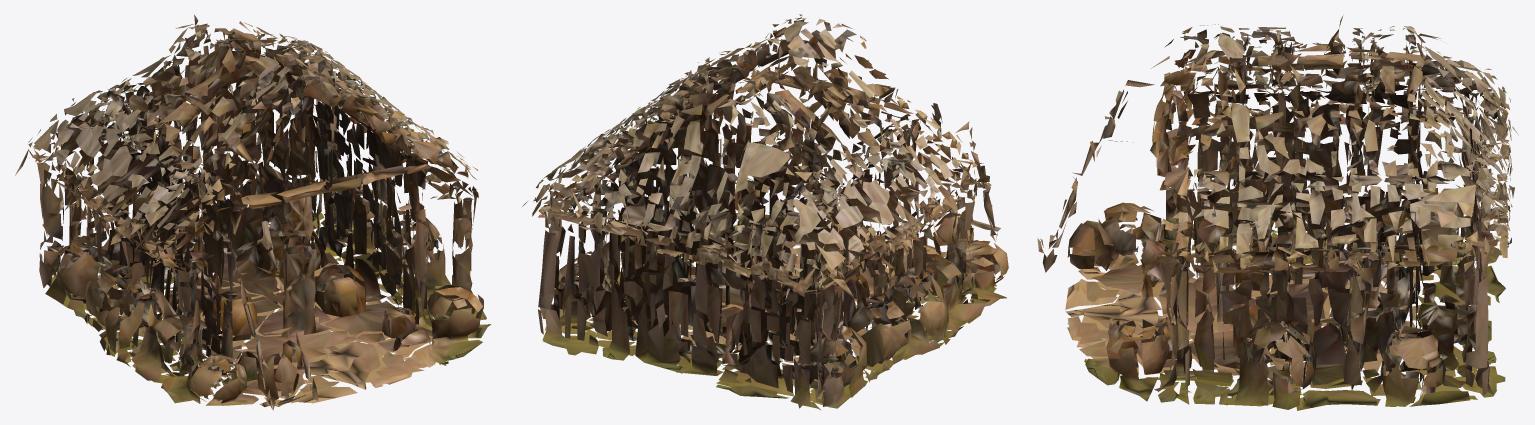
File: kornspeicher.glb
The picture shows the model from 3 angles, left to right: view 1: azimuth 30°, elevation 25°; view 2: azimuth 150°, elevation 25°; view 3: azimuth 270°, elevation 25°; orthographic projection. The views are drawn at different scales.
Bounding box in the file's own units: 1.6 × 1.23 × 1.8.
Materials: 1 (1 with a texture image).
